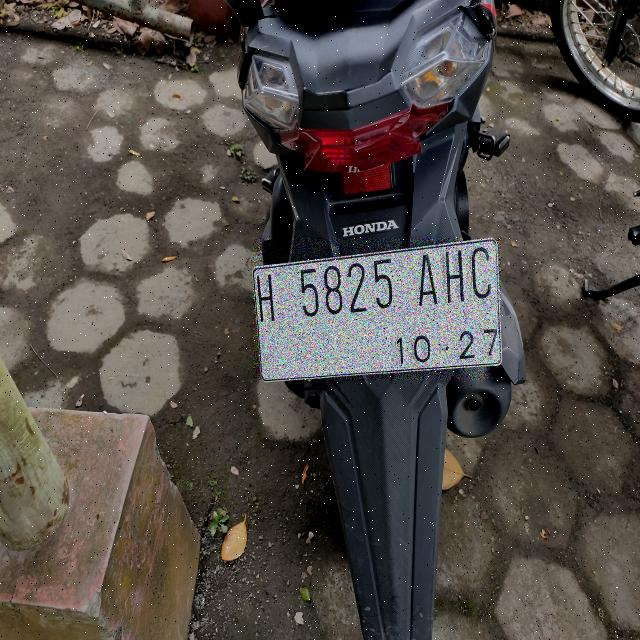plate: (253, 239, 500, 379)
